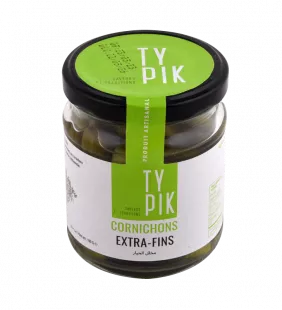TYPIK: (51, 19, 237, 285)
